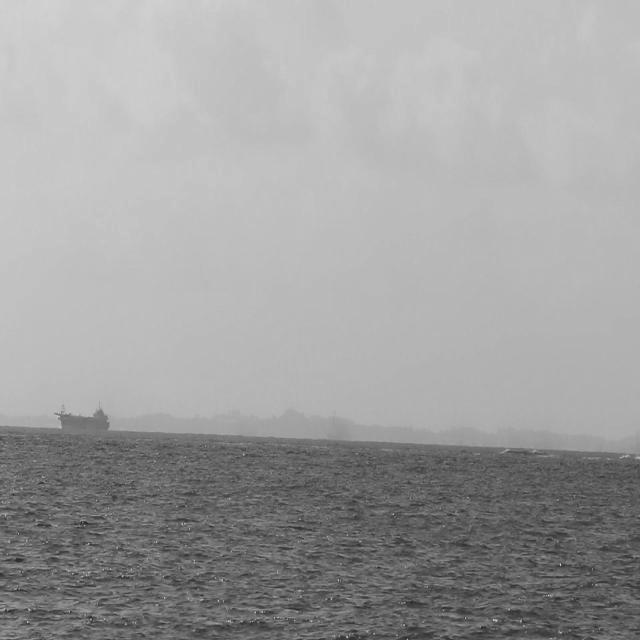ship: (52, 398, 110, 433)
